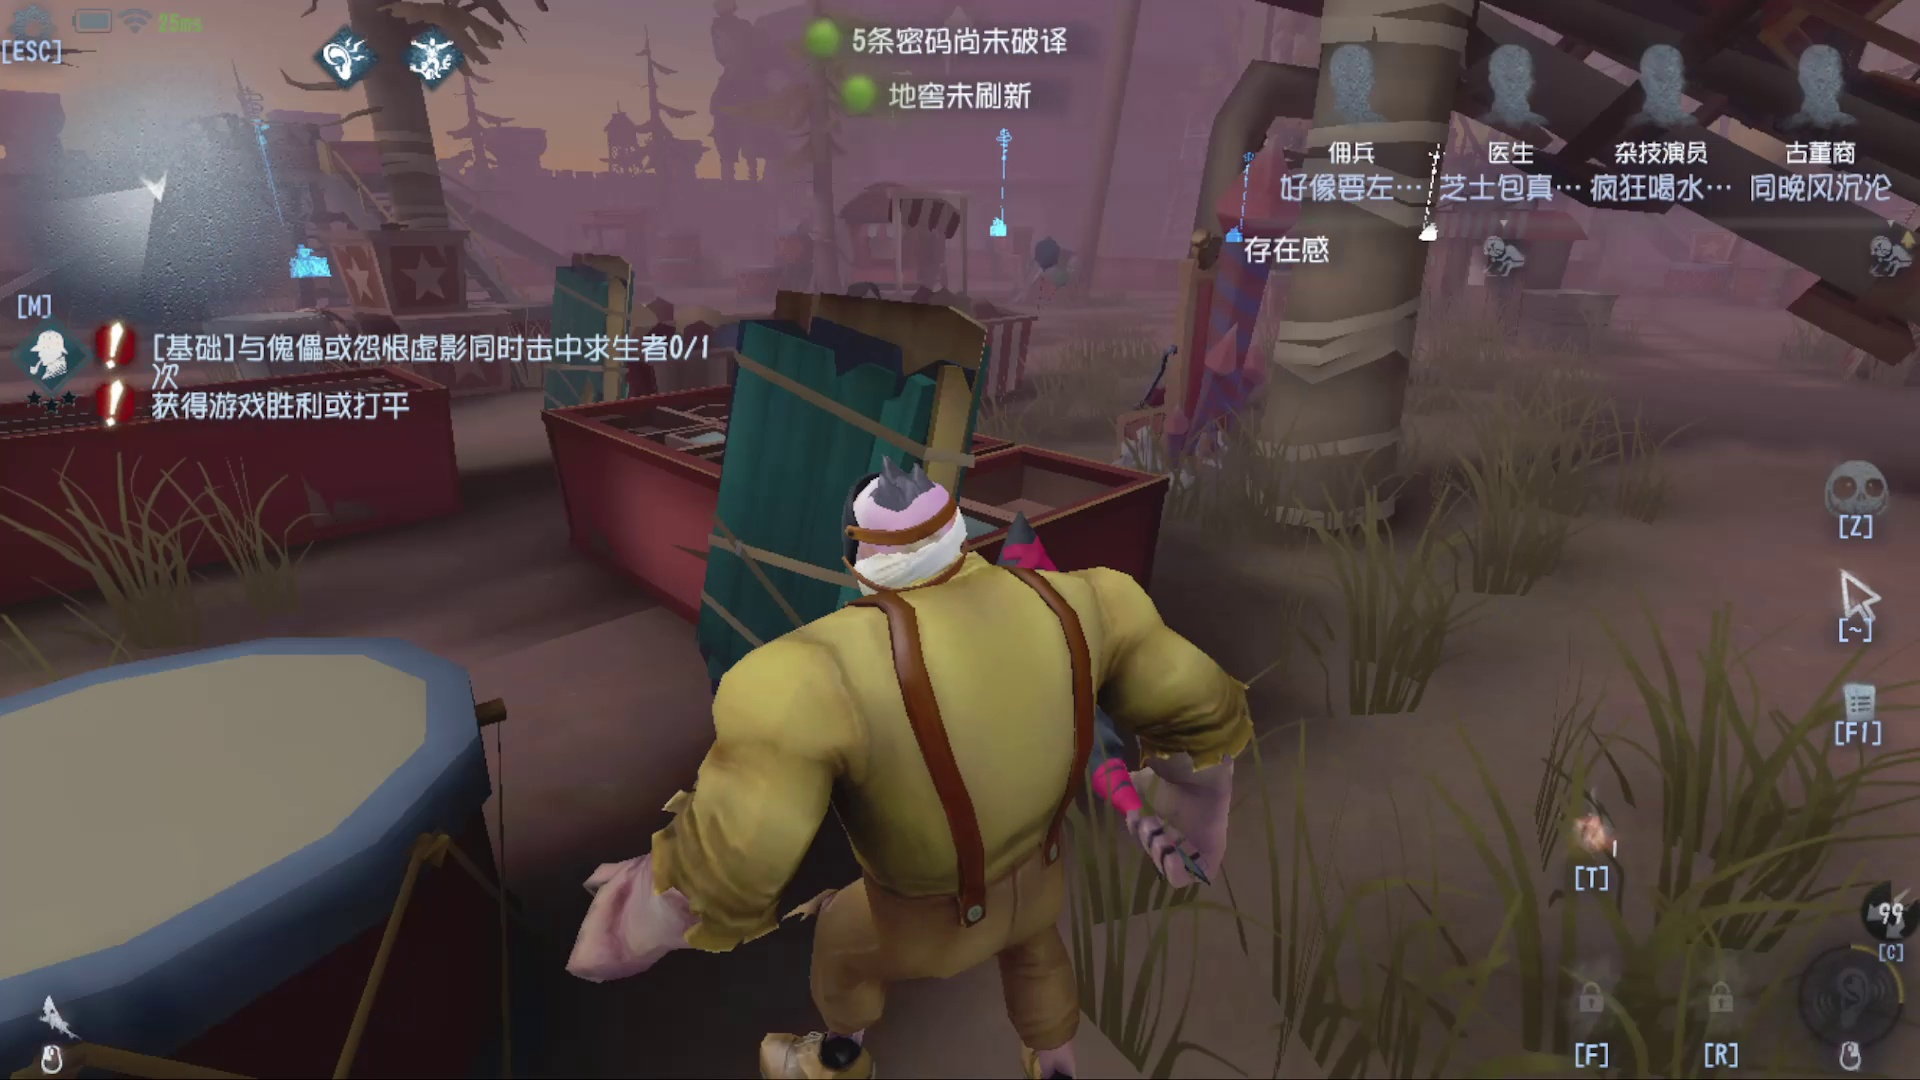密码机: (225, 73, 344, 291), (1407, 133, 1451, 264), (982, 123, 1022, 255), (1224, 142, 1255, 249)
木板: (731, 282, 977, 611), (530, 249, 634, 435)
狂欢之椅: (1156, 103, 1294, 502)
